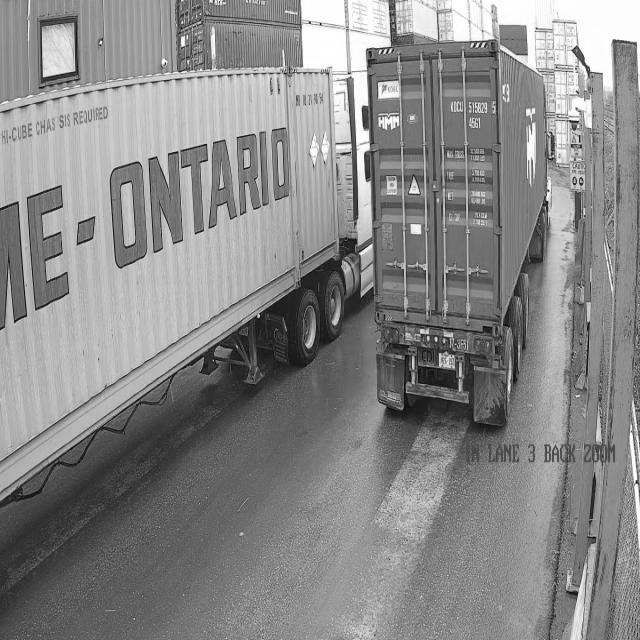container_company_logo: (378, 107, 401, 135)
container_number: (448, 95, 496, 137)
license_plate: (437, 347, 456, 372)
truck_with_container: (0, 68, 372, 505), (366, 39, 550, 425)
